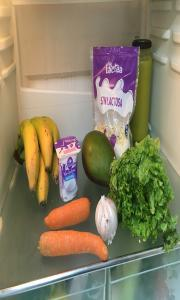Lechuga/Endivia: (116, 132, 172, 246)
Plátano: (16, 118, 40, 195), (29, 114, 55, 176)
Queso: (90, 42, 138, 150)
Yogur: (54, 137, 81, 202)
Zanahoria: (38, 228, 112, 262), (43, 195, 91, 228)
